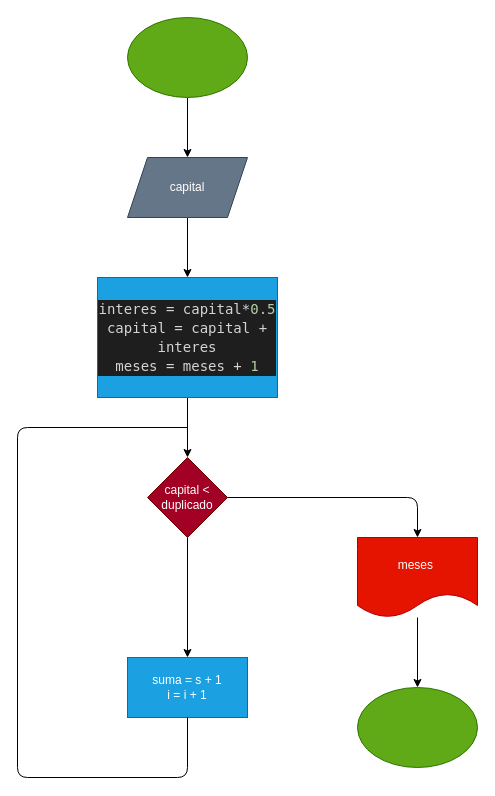
Image size: 495x796. Some labels were removed from this diagram. Each missing label, with the centre of its shape:
"fin" belongs at (417,727).
"inicio" belongs at (187,57).
